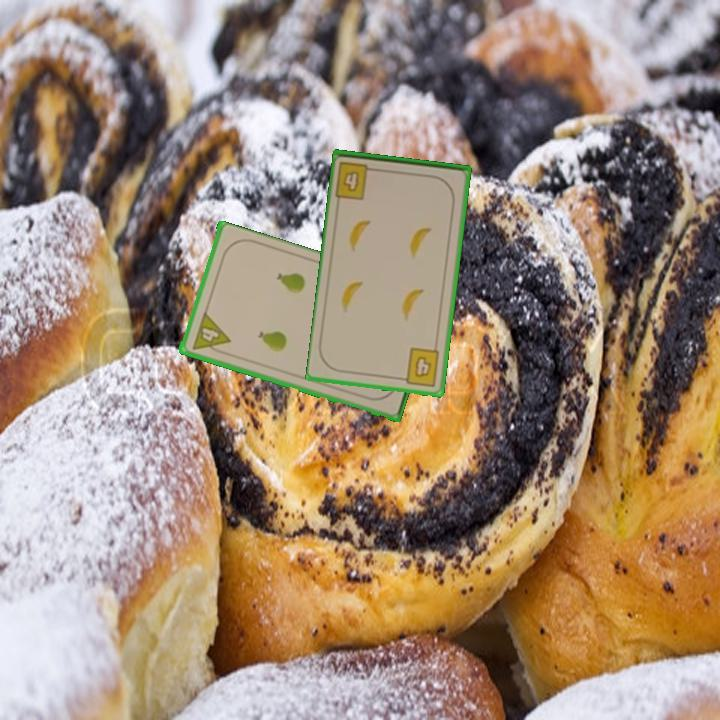4b: (332, 158, 380, 202), (396, 344, 442, 389)
4p: (188, 310, 232, 358)
